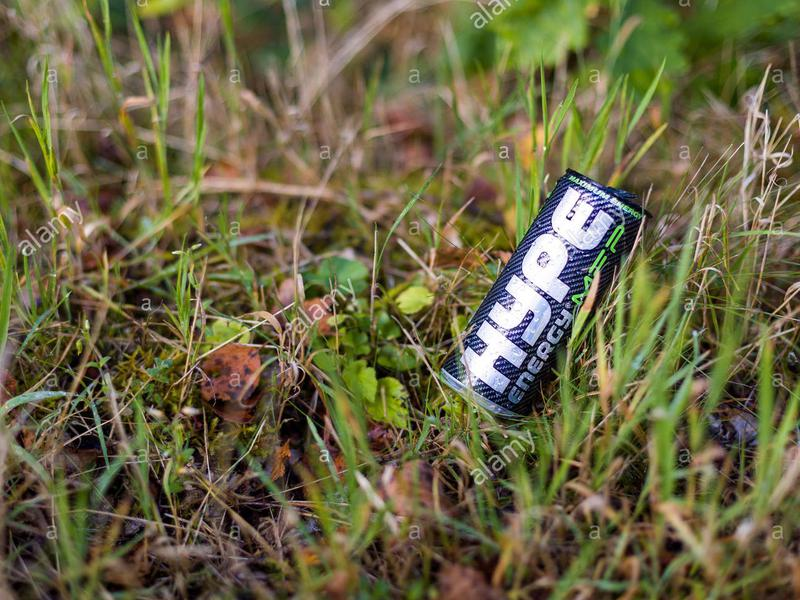can: (432, 166, 648, 430)
